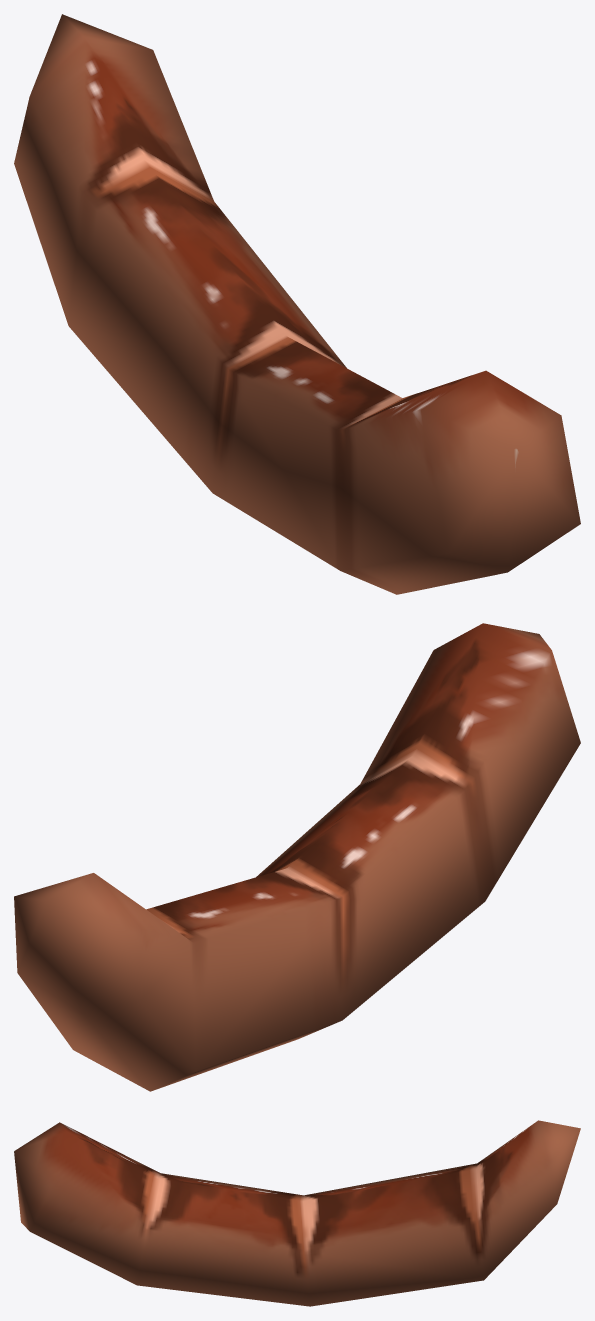
The model's file is SM_PROP_food_sausage_03.FBX.
3 renders of one model, top to bottom at view 1: azimuth 30°, elevation 25°; view 2: azimuth 150°, elevation 25°; view 3: azimuth 270°, elevation 25°, orthographic. The views are drawn at different scales.
Visible parts, largest first — view 1: SM_PROP_food_sausage_03; view 2: SM_PROP_food_sausage_03; view 3: SM_PROP_food_sausage_03.
Boxes of the visible parts, left/top/right/bottom form: SM_PROP_food_sausage_03: left=14, top=14, right=580, bottom=594; SM_PROP_food_sausage_03: left=14, top=623, right=580, bottom=1091; SM_PROP_food_sausage_03: left=14, top=1120, right=580, bottom=1306.
Bounding box in the file's own units: 6.95 × 36.32 × 12.98.
